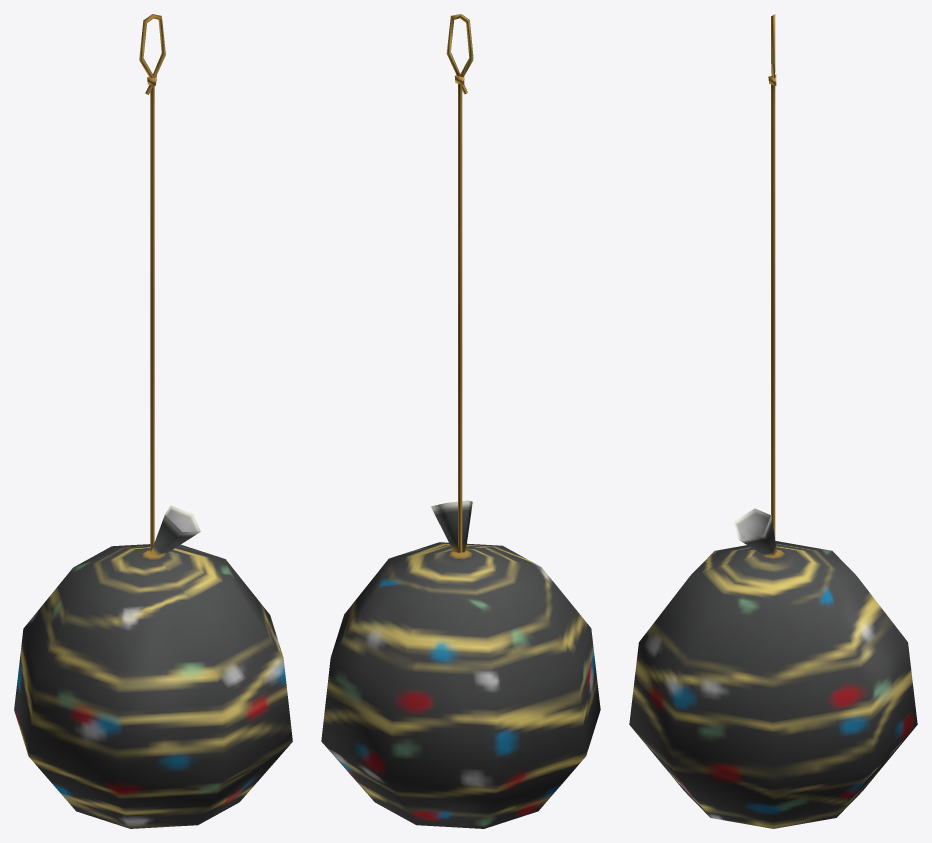
Rendered from jsf_WaterBalloon_03_a.fbx.
3 views of the same model, side by side, from view 1: azimuth 30°, elevation 25°; view 2: azimuth 150°, elevation 25°; view 3: azimuth 270°, elevation 25° (orthographic).
Visible parts, largest first — view 1: jsf_WaterBalloon_03_a; view 2: jsf_WaterBalloon_03_a; view 3: jsf_WaterBalloon_03_a.
Boxes of the visible parts, left/top/right/bottom form: jsf_WaterBalloon_03_a: left=14, top=14, right=292, bottom=828; jsf_WaterBalloon_03_a: left=321, top=14, right=600, bottom=828; jsf_WaterBalloon_03_a: left=629, top=14, right=917, bottom=828.
Size of the model in its own units: 10.92 by 33.54 by 10.92.
